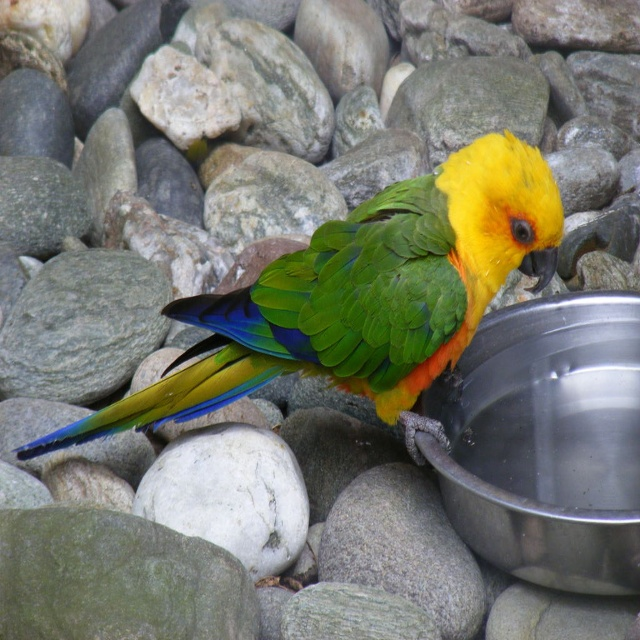Parrot: (11, 129, 564, 464)
